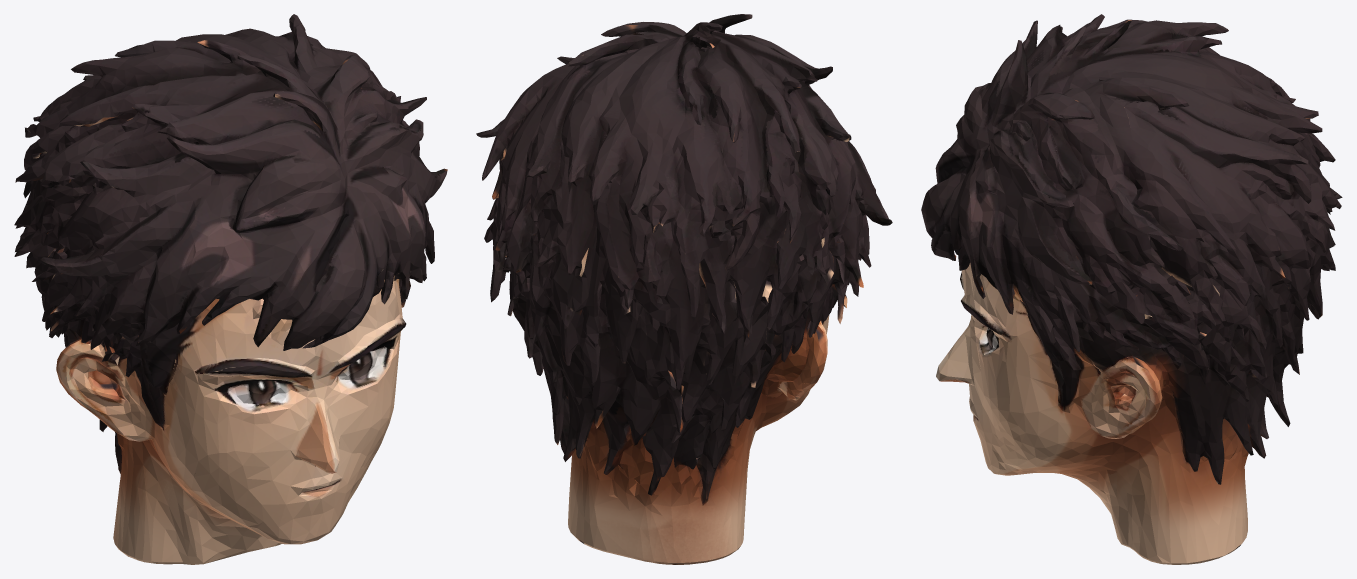
Rendered from side_townguard_repaired_atlas.glb.
3 renders of one model, left to right at view 1: azimuth 30°, elevation 25°; view 2: azimuth 150°, elevation 25°; view 3: azimuth 270°, elevation 25°, orthographic. The views are drawn at different scales.
Parts seen in each view (by area): view 1: temp_mesh.ply; view 2: temp_mesh.ply; view 3: temp_mesh.ply.
Boxes of the visible parts, bbox=[...] form: temp_mesh.ply: bbox=[14, 14, 447, 564]; temp_mesh.ply: bbox=[476, 14, 892, 564]; temp_mesh.ply: bbox=[921, 14, 1342, 564].
Bounding box in the file's own units: 0.9923 × 1.21 × 0.9442.
Materials: 1 (1 with a texture image).
